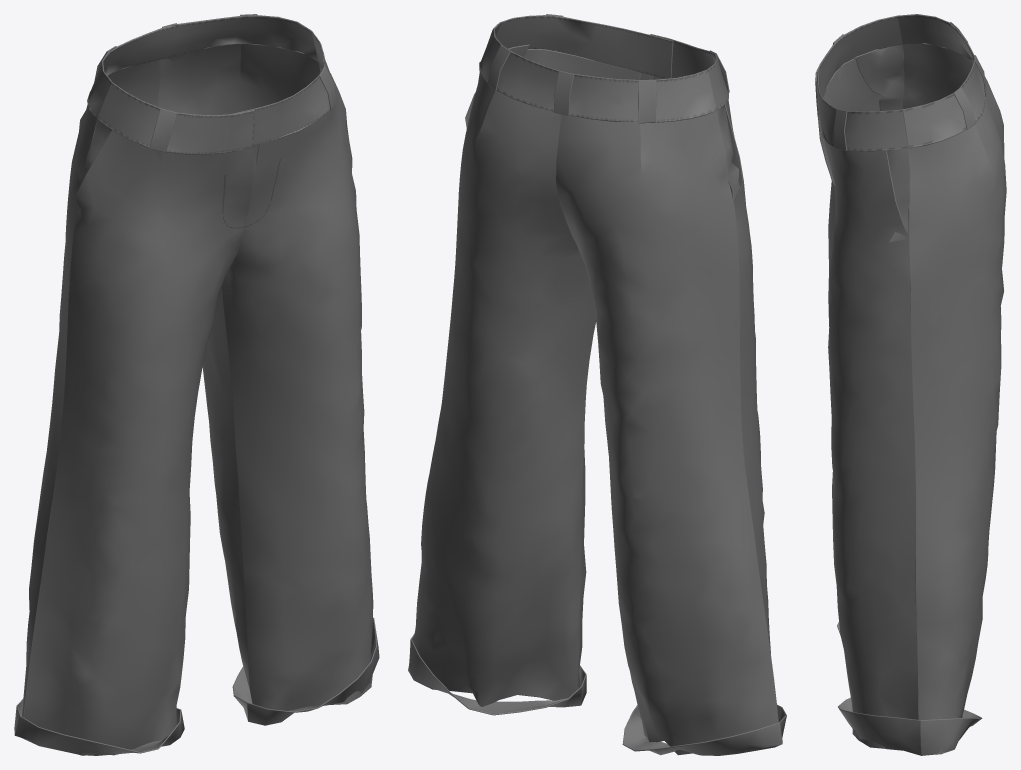
File: mikkypantslowpoly.fbx
3 views of the same model, side by side, from view 1: azimuth 30°, elevation 25°; view 2: azimuth 150°, elevation 25°; view 3: azimuth 270°, elevation 25° (orthographic). The views are drawn at different scales.
Parts seen in each view (by area): view 1: PRIVAT PANT 005_1; view 2: PRIVAT PANT 005_1; view 3: PRIVAT PANT 005_1.
Part boxes in pixels (x1,y1,x2,y2): PRIVAT PANT 005_1: (14,14,379,755); PRIVAT PANT 005_1: (408,14,786,755); PRIVAT PANT 005_1: (815,14,1006,755).
Bounding box in the file's own units: 50.64 × 89.79 × 24.5.
Materials: 57 (57 with a texture image).
